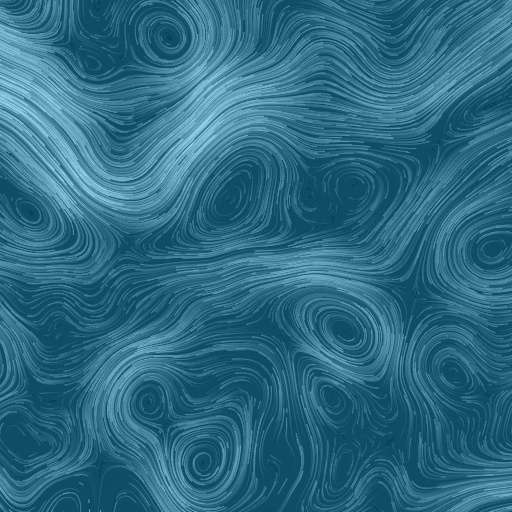eddy: (305, 294, 390, 370), (169, 422, 243, 501), (193, 157, 267, 234), (133, 4, 204, 70), (430, 341, 479, 399), (321, 438, 364, 500), (5, 189, 56, 234), (327, 167, 380, 210), (310, 378, 357, 419), (74, 42, 120, 83), (471, 229, 509, 269), (134, 386, 166, 419)
